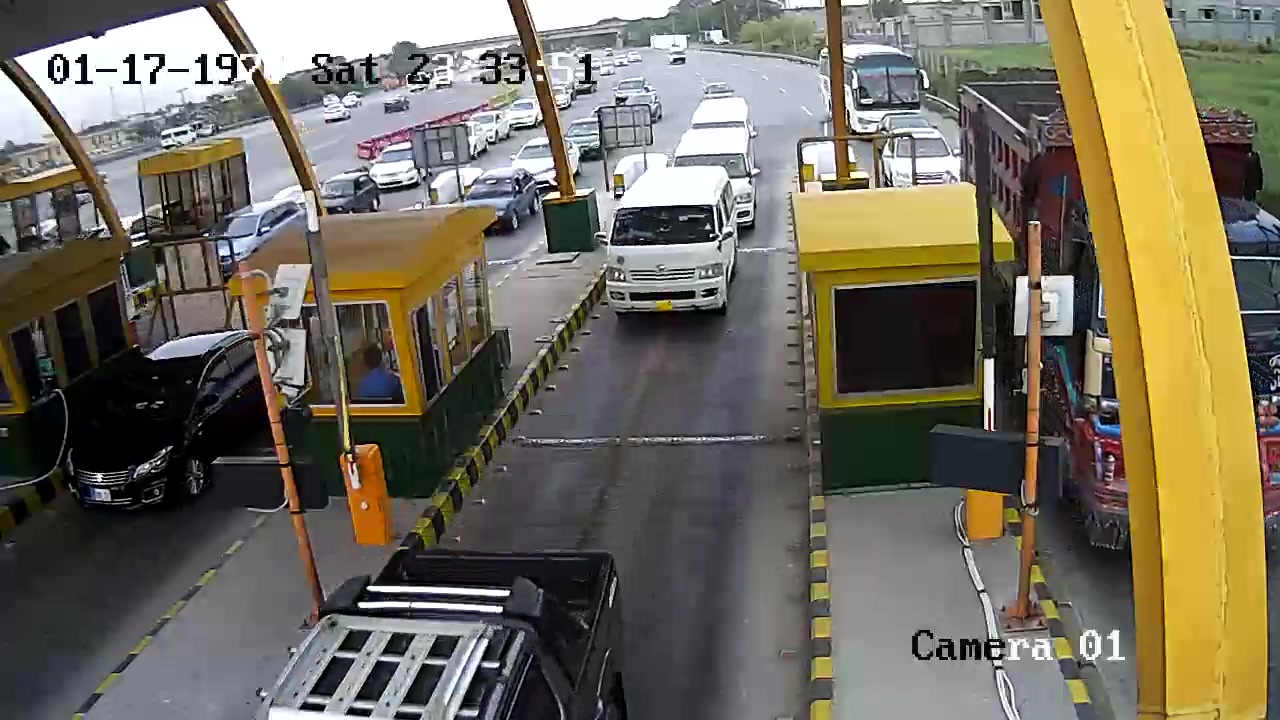F3: (604, 160, 742, 314)
